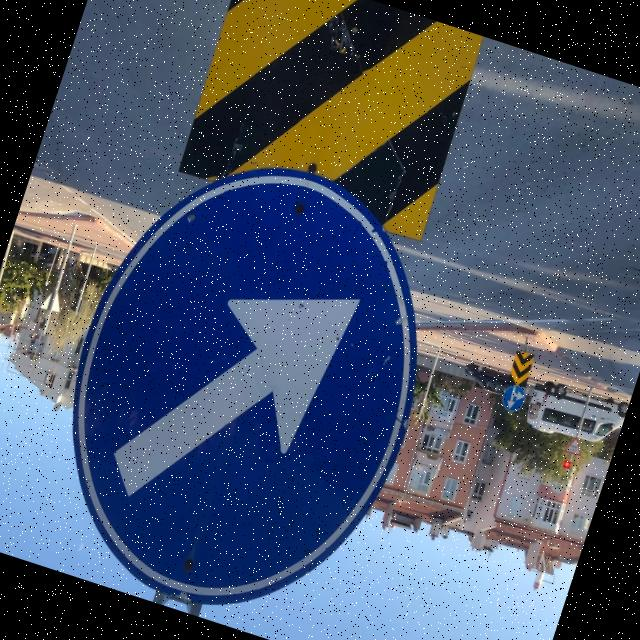compulsory_keep_right: (6, 109, 479, 640)
